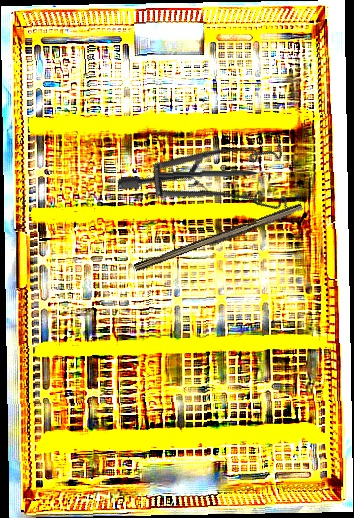Chopper: (157, 167, 276, 186)
Scalpel Handle: (133, 200, 305, 277)
Speculum: (116, 100, 310, 275)
